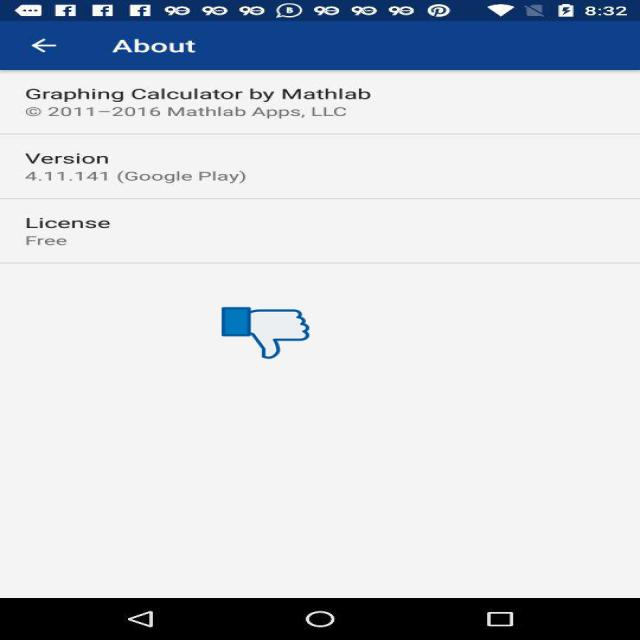obstruction: (222, 306, 309, 360)
